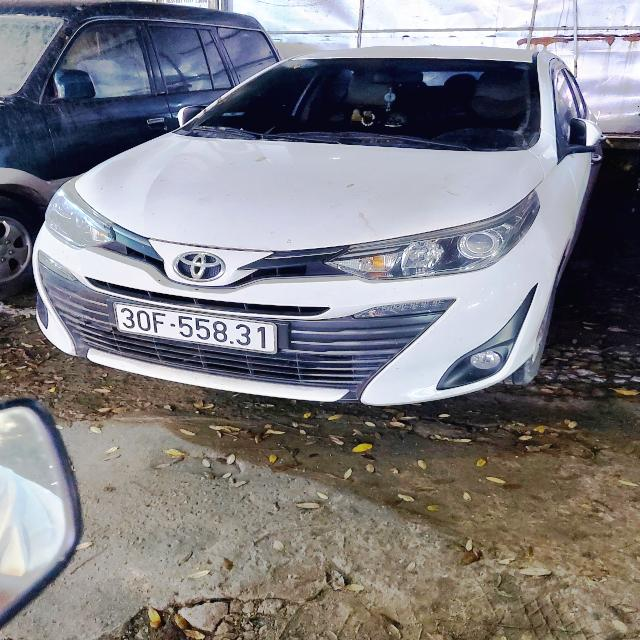license_plate: (112, 300, 280, 359)
